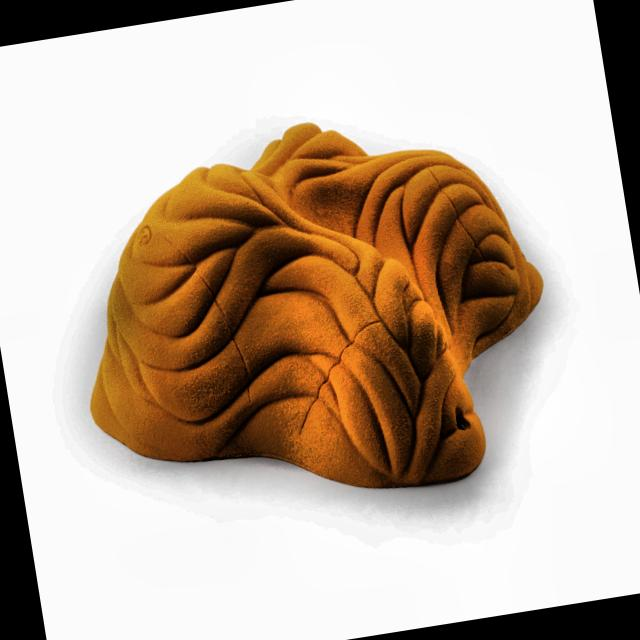Hold: (51, 86, 574, 540)
